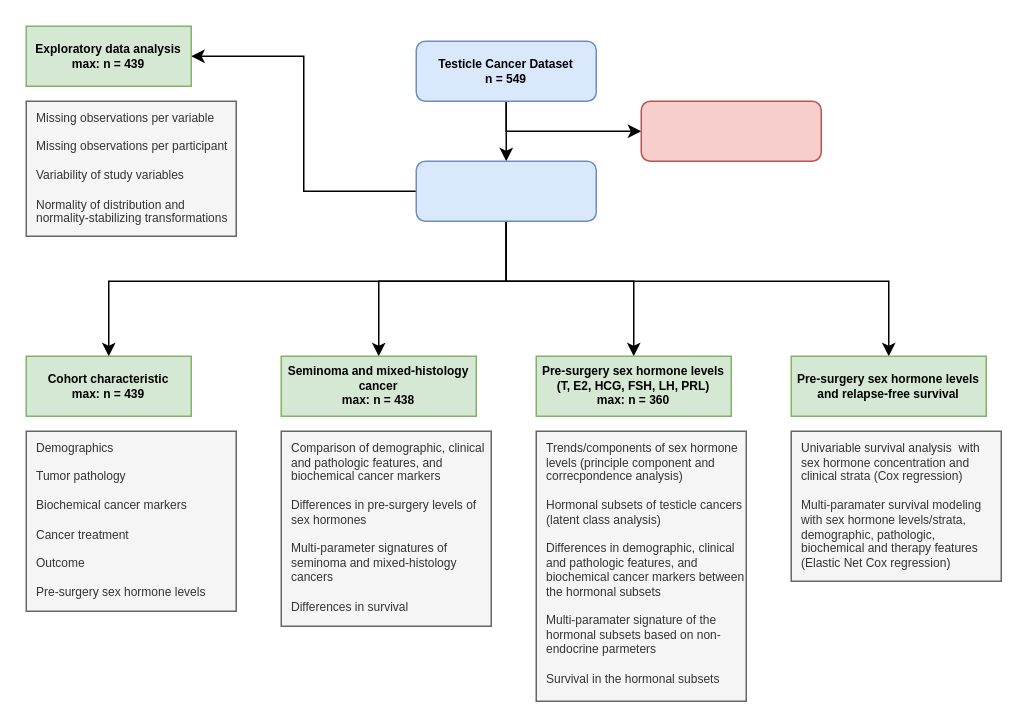
Some shapes in this 1028 by 728 pixel diagram are drawn without their labels. Each missing label, with the centre of its shape:
"complete survival information n = 439" goes at point 505,190.
"excluded due to survival data missingness n = 110" goes at point 730,130.
